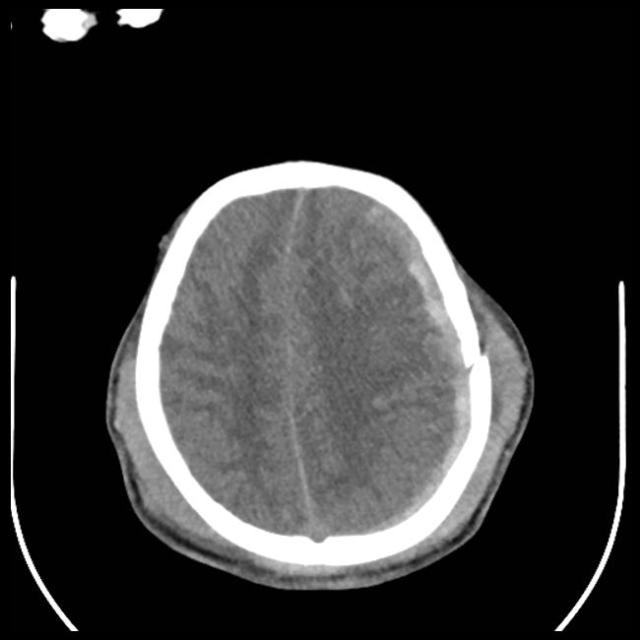lesion: (101, 153, 538, 592)
